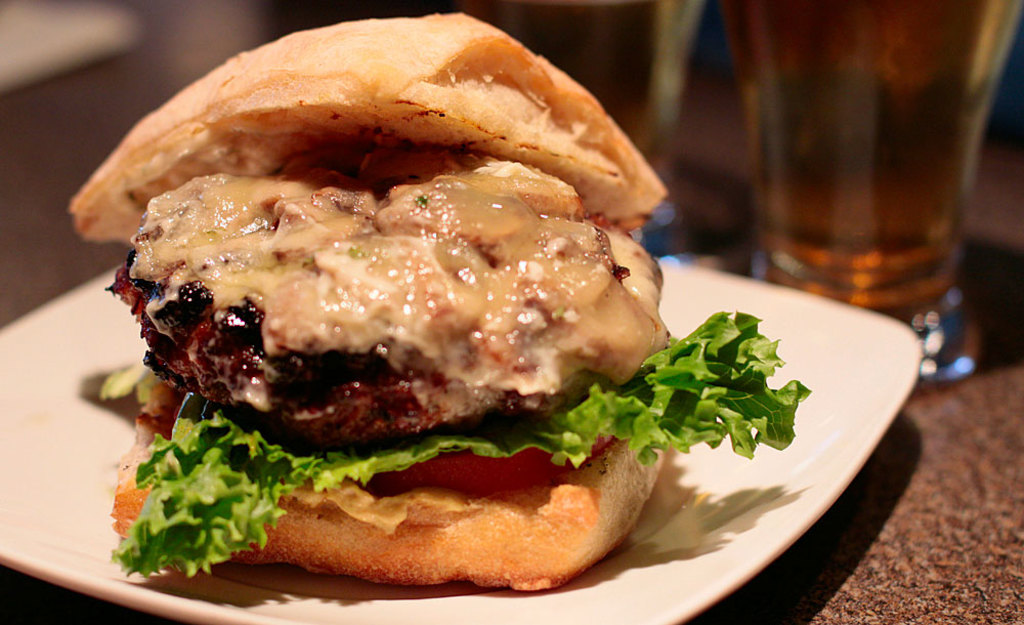Hamburger: (70, 11, 816, 593)
